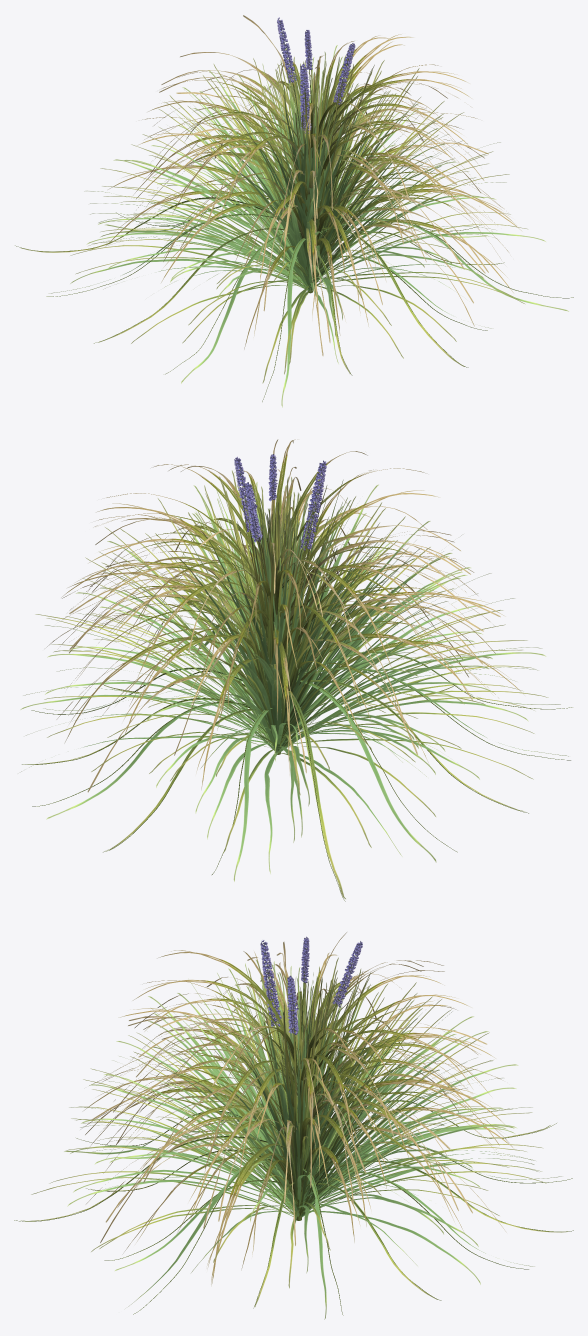
File: lilyturf-a.glb
3 views of the same model, one above another, from view 1: azimuth 30°, elevation 25°; view 2: azimuth 150°, elevation 25°; view 3: azimuth 270°, elevation 25° (orthographic). The views are drawn at different scales.
Visible parts, largest first — view 1: Leaf2_OphiopogonJaburan_Mat.001, Leaf1_OphiopogonJaburan_Mat.001, Deadleaf1_OphiopogonJaburan_Mat.001, Deadleaf2_OphiopogonJaburan_Mat.001, Stem_OphiopogonJaburan_Mat.001, Flower1_OphiopogonJaburan_Mat; view 2: Leaf2_OphiopogonJaburan_Mat.001, Leaf1_OphiopogonJaburan_Mat.001, Deadleaf1_OphiopogonJaburan_Mat.001, Deadleaf2_OphiopogonJaburan_Mat.001, Stem_OphiopogonJaburan_Mat.001, Flower1_OphiopogonJaburan_Mat; view 3: Leaf2_OphiopogonJaburan_Mat.001, Deadleaf1_OphiopogonJaburan_Mat.001, Leaf1_OphiopogonJaburan_Mat.001, Deadleaf2_OphiopogonJaburan_Mat.001, Stem_OphiopogonJaburan_Mat.001, Flower1_OphiopogonJaburan_Mat.
Boxes of the visible parts, bbox=[...] form: Leaf2_OphiopogonJaburan_Mat.001: bbox=[49, 45, 568, 407]; Leaf1_OphiopogonJaburan_Mat.001: bbox=[20, 55, 527, 383]; Deadleaf1_OphiopogonJaburan_Mat.001: bbox=[105, 34, 521, 349]; Deadleaf2_OphiopogonJaburan_Mat.001: bbox=[136, 15, 500, 355]; Stem_OphiopogonJaburan_Mat.001: bbox=[15, 32, 573, 401]; Flower1_OphiopogonJaburan_Mat: bbox=[277, 17, 355, 133]; Leaf2_OphiopogonJaburan_Mat.001: bbox=[20, 480, 568, 881]; Leaf1_OphiopogonJaburan_Mat.001: bbox=[28, 470, 548, 898]; Deadleaf1_OphiopogonJaburan_Mat.001: bbox=[46, 439, 521, 789]; Deadleaf2_OphiopogonJaburan_Mat.001: bbox=[57, 439, 500, 792]; Stem_OphiopogonJaburan_Mat.001: bbox=[22, 457, 572, 901]; Flower1_OphiopogonJaburan_Mat: bbox=[234, 454, 326, 550]; Leaf2_OphiopogonJaburan_Mat.001: bbox=[64, 960, 561, 1319]; Deadleaf1_OphiopogonJaburan_Mat.001: bbox=[83, 950, 513, 1285]; Leaf1_OphiopogonJaburan_Mat.001: bbox=[21, 957, 567, 1306]; Deadleaf2_OphiopogonJaburan_Mat.001: bbox=[85, 932, 506, 1245]; Stem_OphiopogonJaburan_Mat.001: bbox=[14, 943, 573, 1315]; Flower1_OphiopogonJaburan_Mat: bbox=[260, 936, 362, 1034].
Size of the model in its own units: 1.04 by 0.6312 by 1.11.
6 materials, 6 textured.
